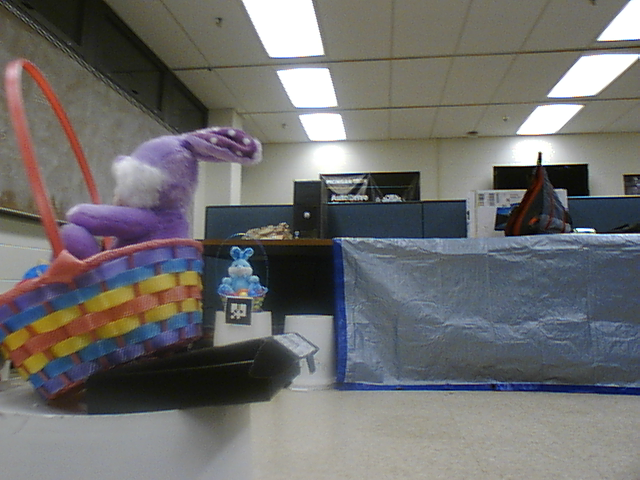bunny: (1, 56, 270, 405), (212, 235, 269, 314)
